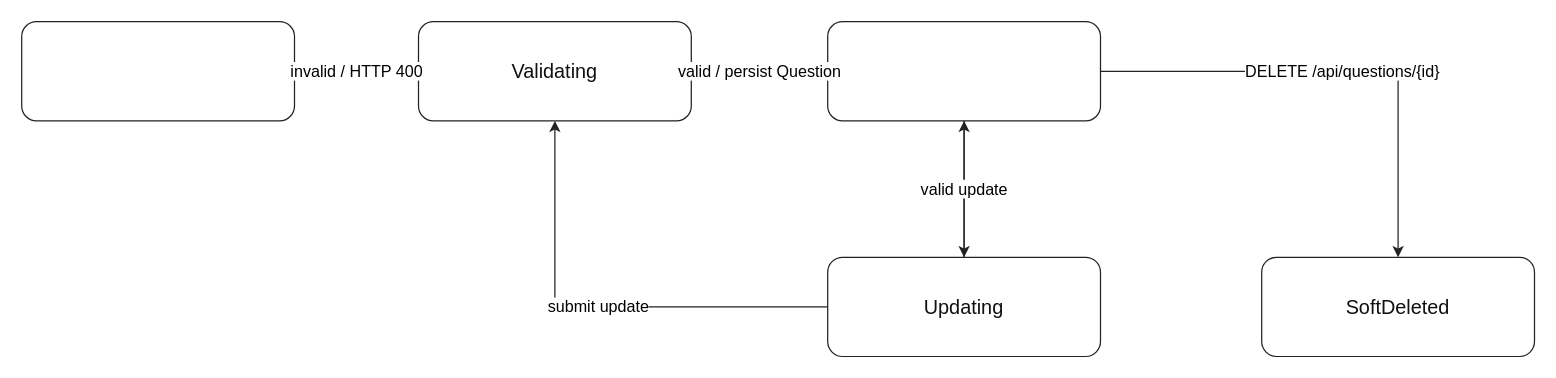
The diagram is 1556 pixels wide and 378 high, and some of its shapes have lost their labels. The centre of each missing label's shape, as x and y in pixels:
"Draft" goes at point 157,70.
"Saved" goes at point 963,70.
